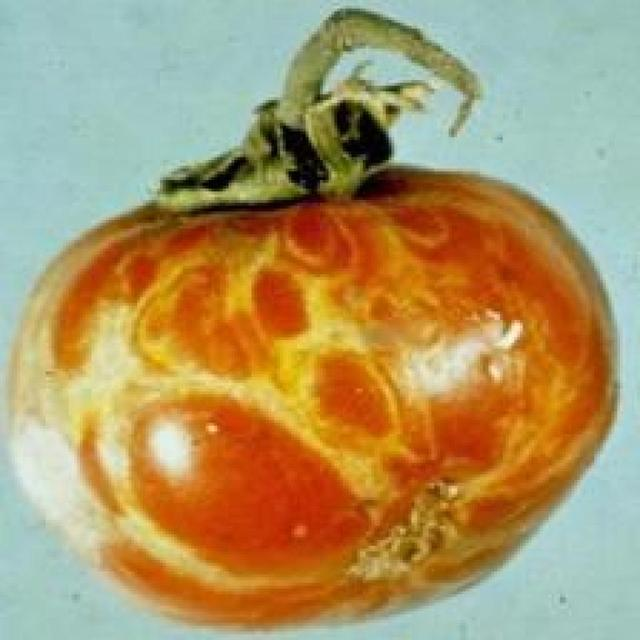Spotted wilt Virus Fruit: (7, 111, 413, 422)
